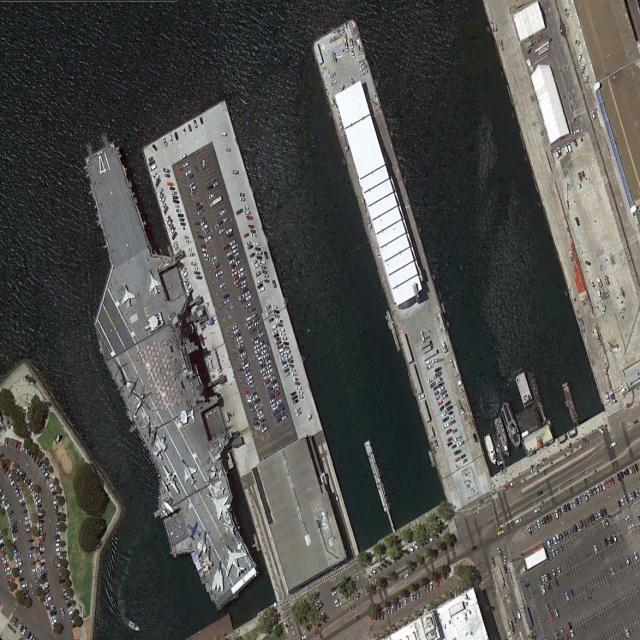Aircraft Carrier: (44, 117, 275, 629)
Other Ship: (499, 401, 523, 450), (492, 415, 512, 460)
Yacht: (481, 432, 499, 467)
